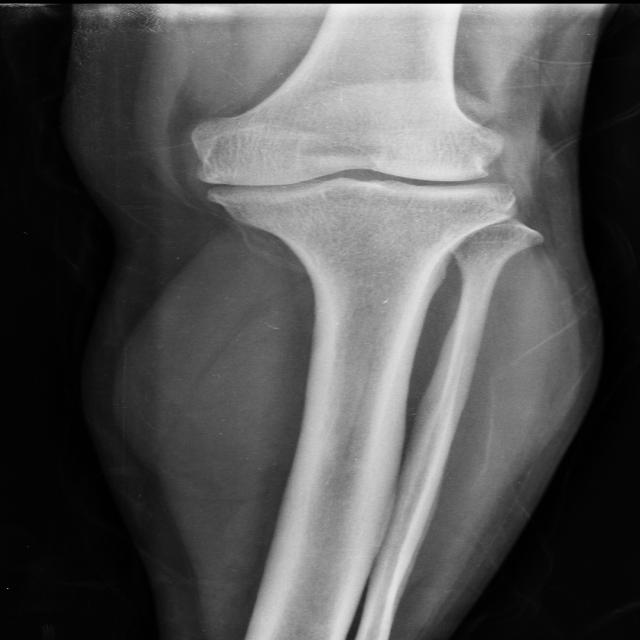normal: (180, 111, 533, 214)
